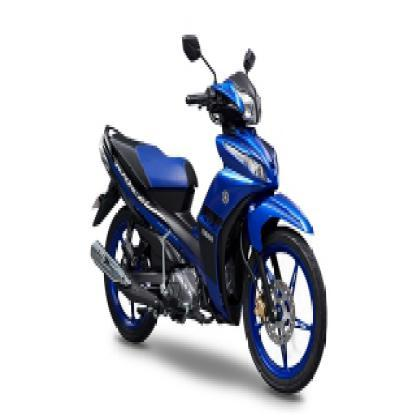Motorcycle: (85, 20, 335, 400)
